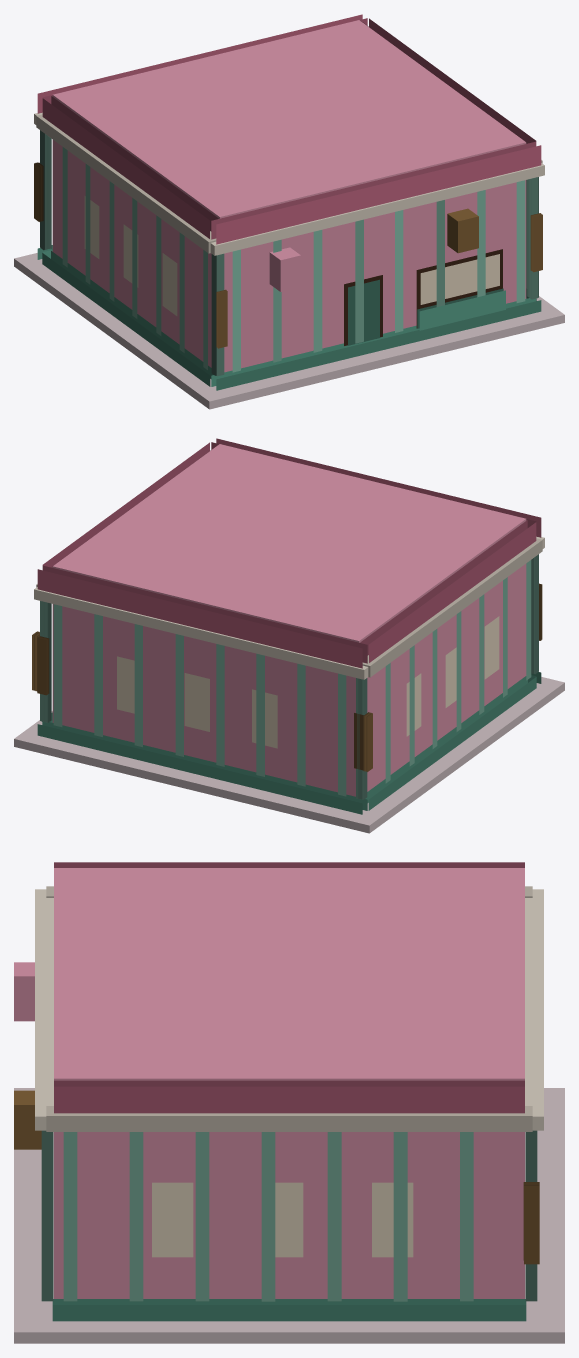
File: StrawSnakeSil.fbx
3 views of the same model, one above another, from view 1: azimuth 30°, elevation 25°; view 2: azimuth 150°, elevation 25°; view 3: azimuth 270°, elevation 25° (orthographic). The views are drawn at different scales.
Parts seen in each view (by area): view 1: IC_S_All; view 2: IC_S_All; view 3: IC_S_All.
Boxes of the visible parts, x1,y1,x2,y2 form: IC_S_All: [14, 14, 564, 409]; IC_S_All: [14, 438, 564, 833]; IC_S_All: [14, 862, 564, 1343].
Size of the model in its own units: 42.04 by 19.9 by 40.04.
